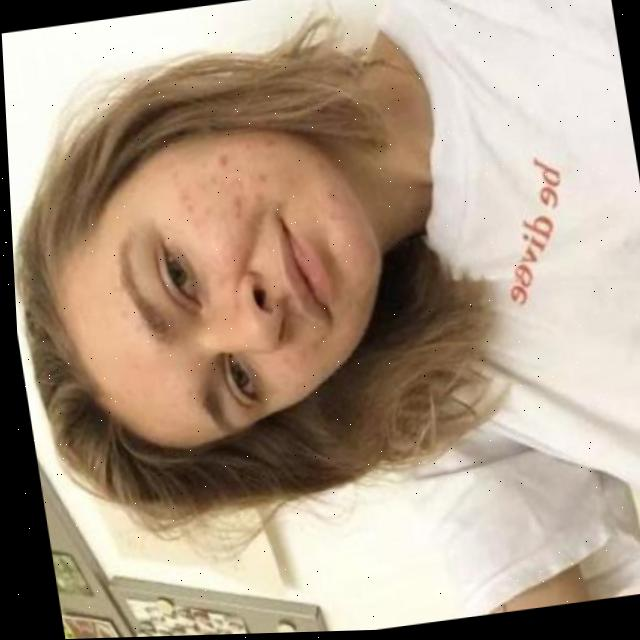Acne: (134, 125, 301, 238), (271, 323, 336, 396)
